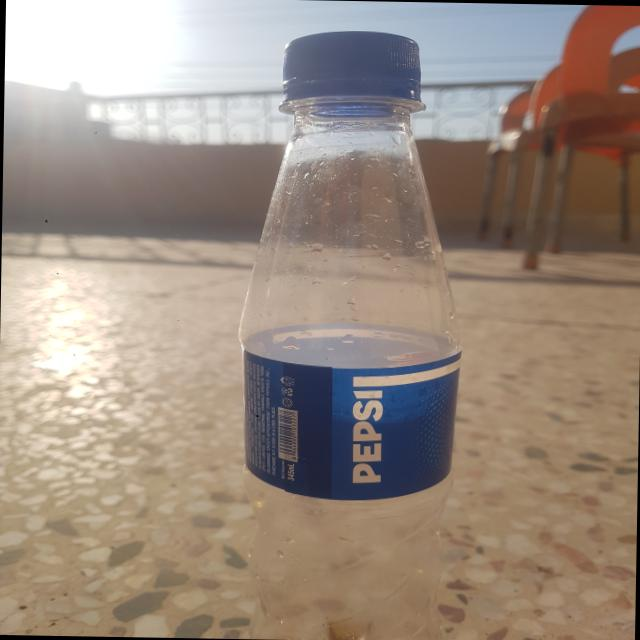general: (231, 28, 468, 640)
